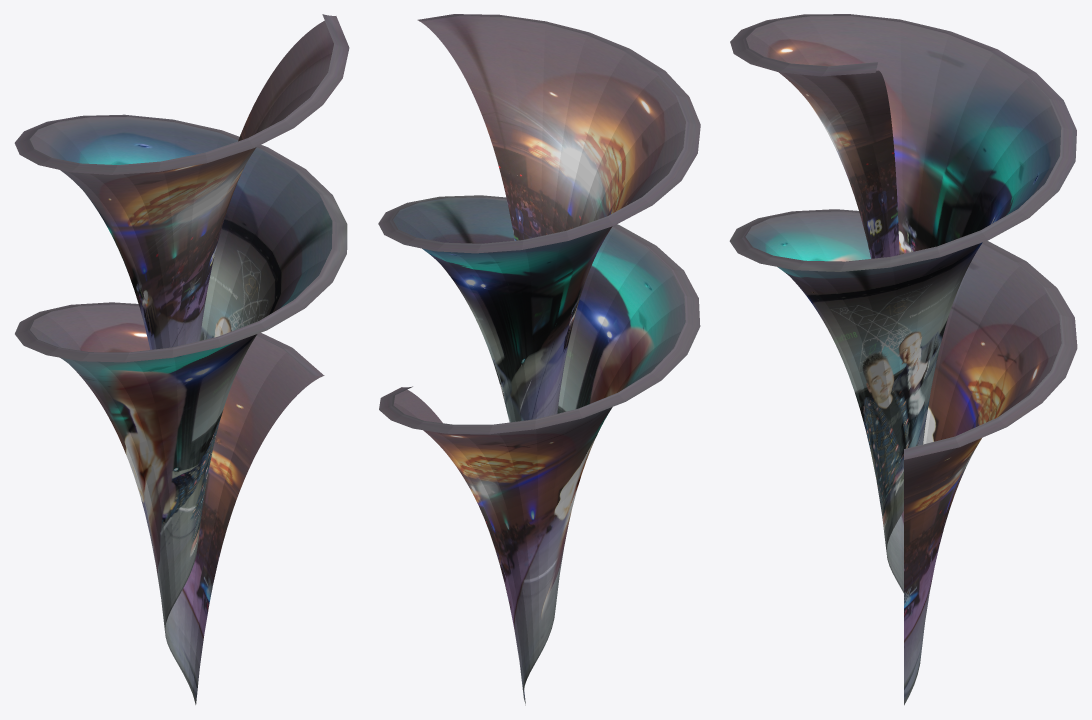
File: dini.gltf
3 renders of one model, left to right at view 1: azimuth 30°, elevation 25°; view 2: azimuth 150°, elevation 25°; view 3: azimuth 270°, elevation 25°, orthographic. The views are drawn at different scales.
Parts seen in each view (by area): view 1: Obj_000001; view 2: Obj_000001; view 3: Obj_000001.
Boxes of the visible parts, x1,y1,x2,y2 form: Obj_000001: [14, 14, 349, 704]; Obj_000001: [378, 14, 700, 705]; Obj_000001: [729, 14, 1077, 705].
Size of the model in its own units: 37.26 by 82.86 by 37.25.
1 material, 1 textured.
